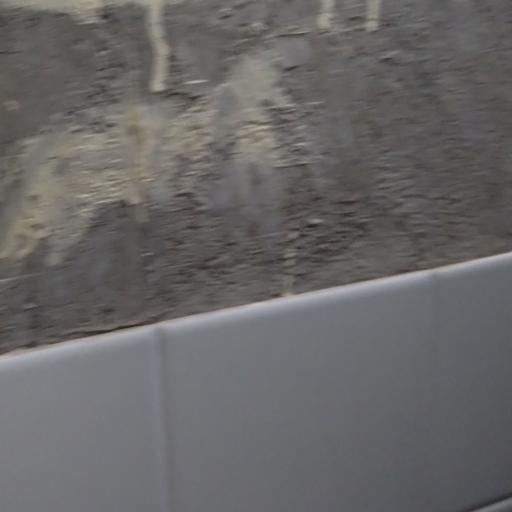spalling: (0, 0, 511, 370)
